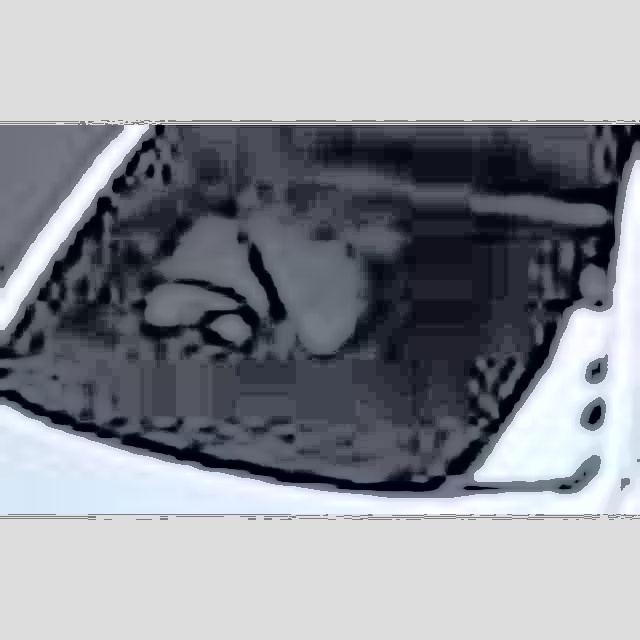pakai: (125, 162, 375, 412)
